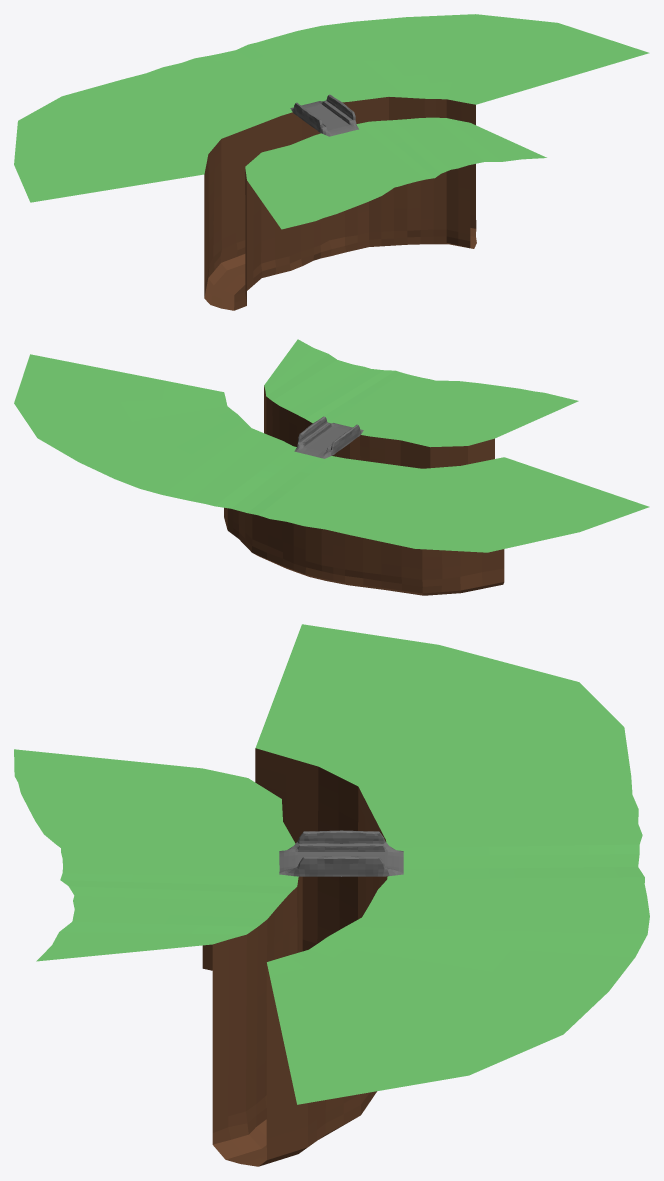
The model's file is bridge.glb.
The picture shows the model from 3 angles, top to bottom: view 1: azimuth 30°, elevation 25°; view 2: azimuth 150°, elevation 25°; view 3: azimuth 270°, elevation 25°; orthographic projection. The views are drawn at different scales.
Visible parts, largest first — view 1: Floor, Bridge; view 2: Floor, Bridge; view 3: Floor, Bridge.
Boxes of the visible parts, x1,y1,x2,y2 form: Floor: [14, 14, 649, 310]; Bridge: [290, 94, 358, 136]; Floor: [14, 339, 649, 595]; Bridge: [294, 416, 363, 458]; Floor: [14, 624, 649, 1166]; Bridge: [279, 830, 403, 876].
Size of what is drawn, in the model's own units: 491 by 109 by 275.
